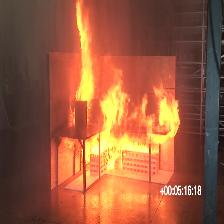fire: (85, 69, 180, 170), (75, 0, 94, 102)
